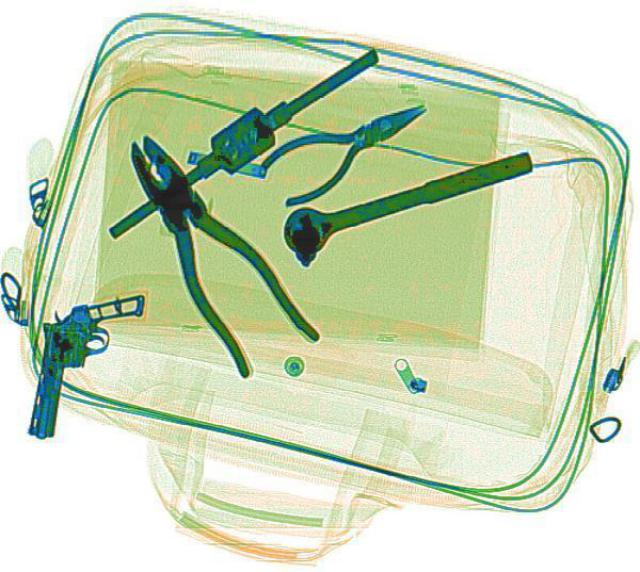Gun: (25, 284, 141, 441)
Pliers: (100, 116, 326, 379), (250, 82, 446, 209)
